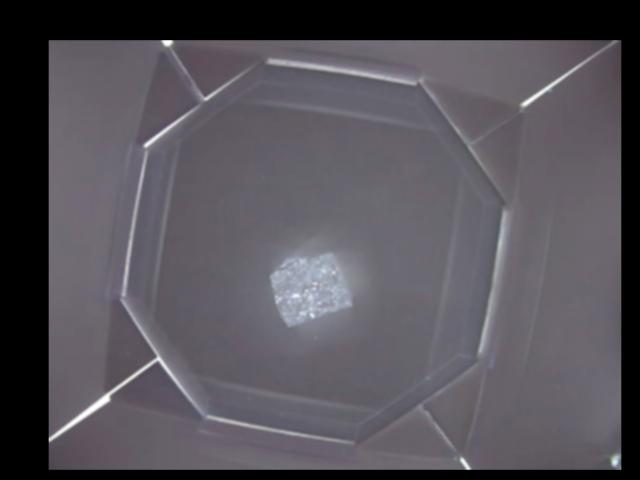China: (273, 250, 352, 325)
